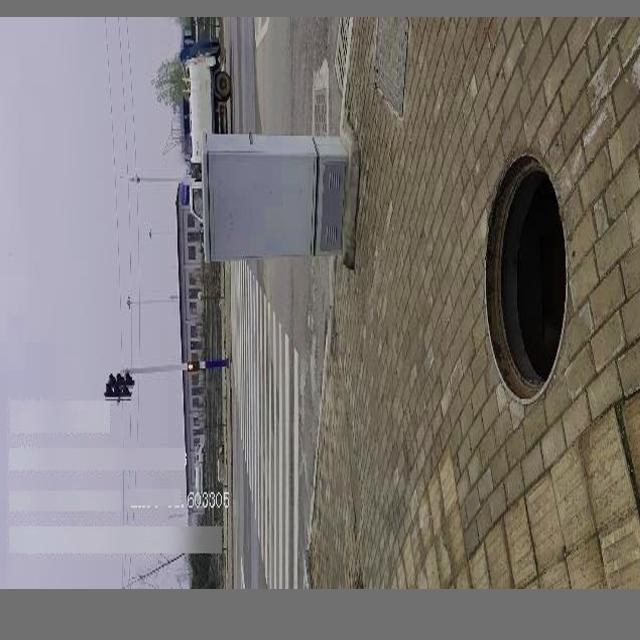lose: (483, 154, 568, 405)
